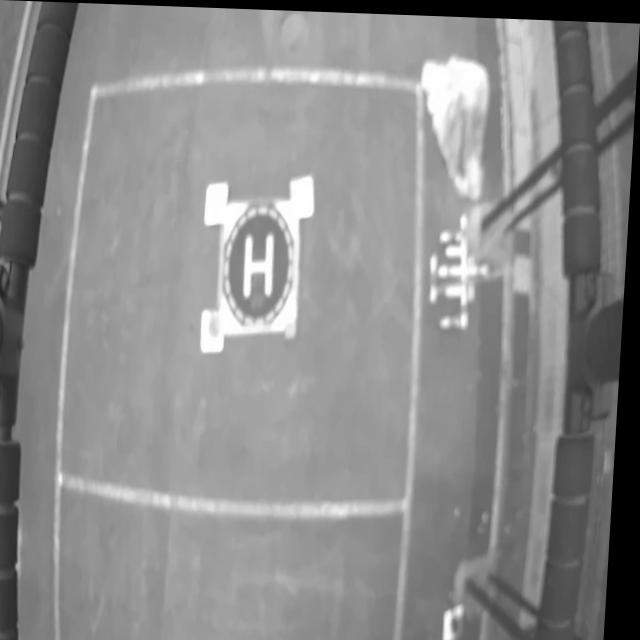Helipad: (246, 232, 277, 296)
